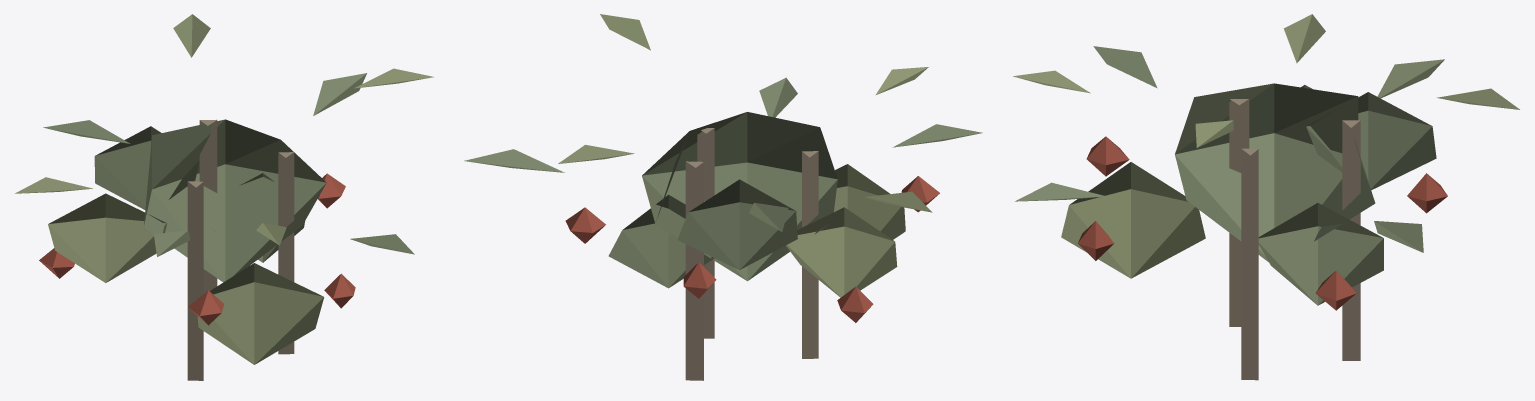
The model's file is guan.fusang@fruiting__winter.glb.
3 renders of one model, left to right at view 1: azimuth 30°, elevation 25°; view 2: azimuth 150°, elevation 25°; view 3: azimuth 270°, elevation 25°, orthographic. The views are drawn at different scales.
Visible parts, largest first — view 1: guan.fusang@fruiting__winter; view 2: guan.fusang@fruiting__winter; view 3: guan.fusang@fruiting__winter.
Boxes of the visible parts, x1=… form: guan.fusang@fruiting__winter: x1=15, y1=14, x2=433, y2=380; guan.fusang@fruiting__winter: x1=464, y1=14, x2=982, y2=380; guan.fusang@fruiting__winter: x1=1013, y1=14, x2=1519, y2=380.
Size of the model in its own units: 3.57 by 2.28 by 3.42.
